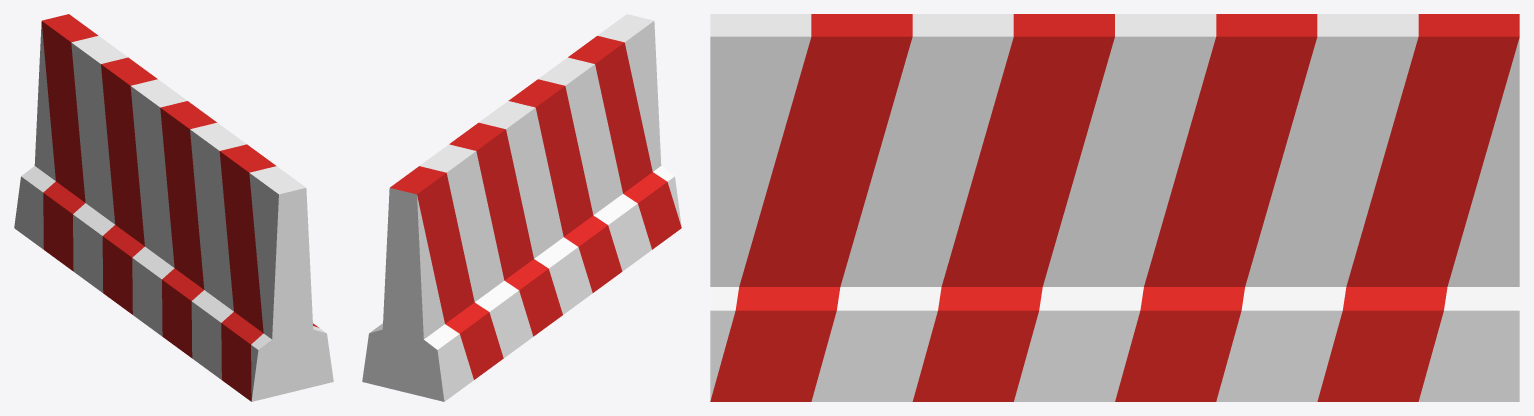
The model's file is barrier2.fbx.
The picture shows the model from 3 angles, left to right: view 1: azimuth 30°, elevation 25°; view 2: azimuth 150°, elevation 25°; view 3: azimuth 270°, elevation 25°; orthographic projection. The views are drawn at different scales.
Visible parts, largest first — view 1: Fence_concrete_free; view 2: Fence_concrete_free; view 3: Fence_concrete_free.
Part boxes in pixels (box(x1,y1,x2,y2)): Fence_concrete_free: box(14, 14, 333, 401); Fence_concrete_free: box(362, 14, 681, 401); Fence_concrete_free: box(710, 14, 1519, 401).
Size of the model in its own units: 60 by 140 by 300.
